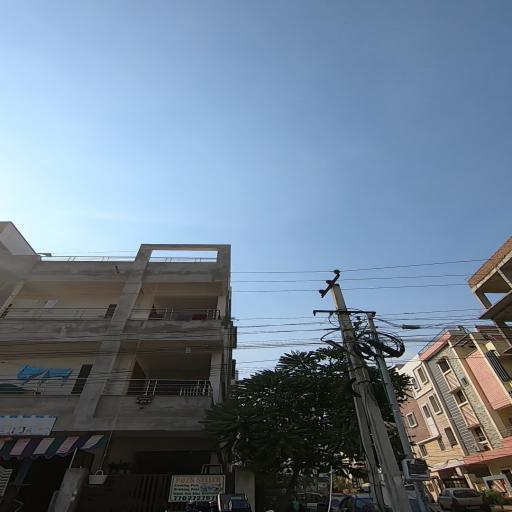Street_light: (321, 337, 363, 363)
